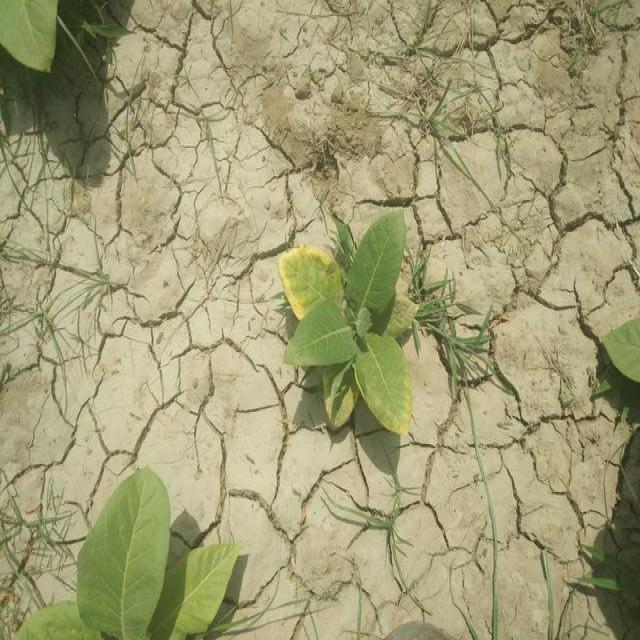crop: (18, 474, 240, 640), (282, 214, 419, 430), (0, 0, 57, 84)
